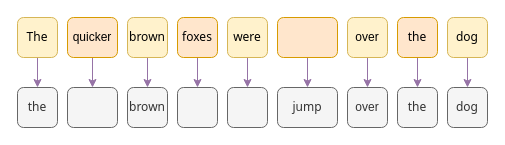
Some shapes in this 505 by 145 pixel diagram are drawn without their labels. Each missing label, with the box of its shape:
be: (226, 86, 268, 128)
fox: (176, 86, 218, 128)
jumping: (276, 16, 338, 58)
quick: (66, 86, 118, 128)
